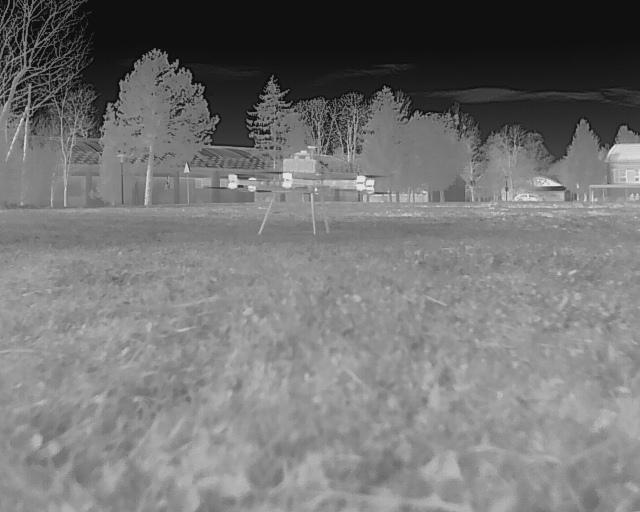drone: (194, 136, 397, 248)
